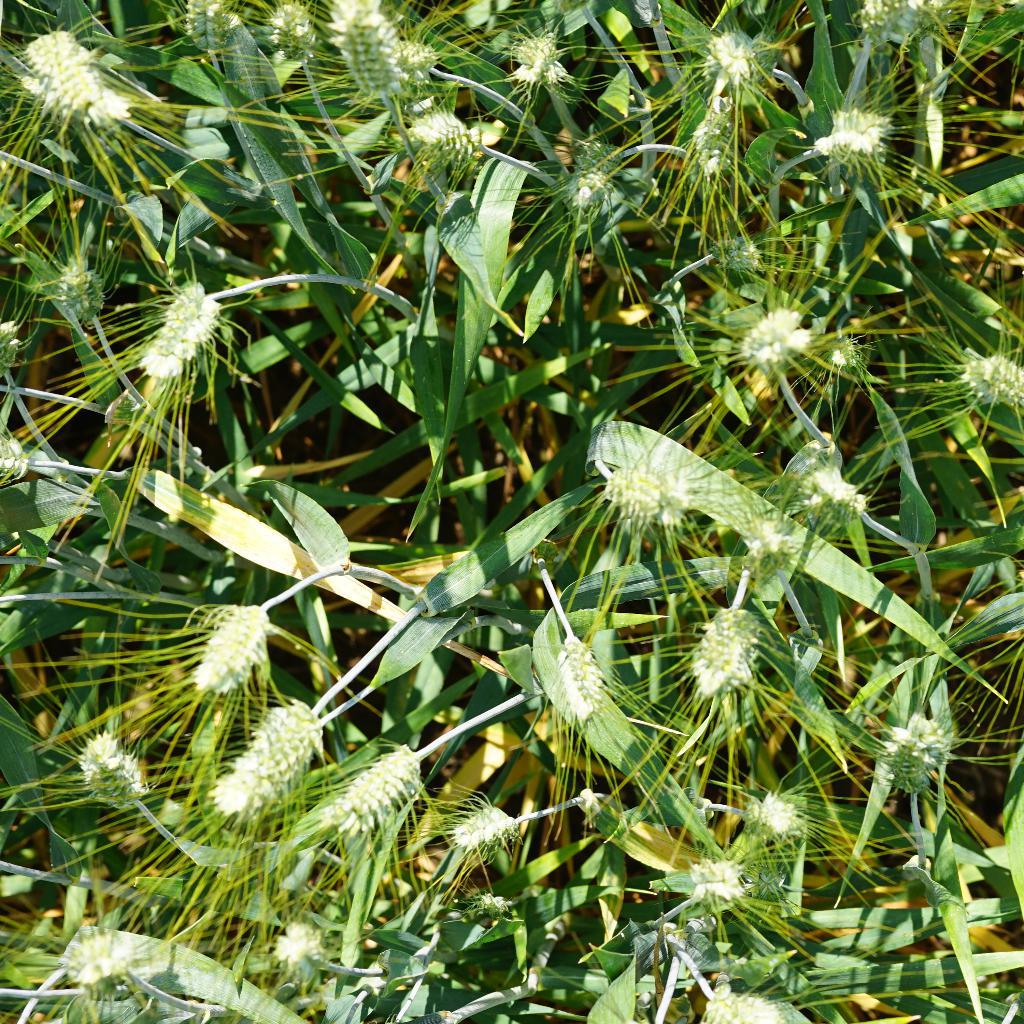0-0: (219, 665, 329, 826), (11, 27, 157, 138), (53, 718, 163, 830), (324, 732, 426, 847), (594, 436, 697, 534), (186, 590, 283, 691), (146, 271, 220, 392), (697, 591, 770, 712), (871, 699, 956, 798), (737, 776, 832, 863), (535, 610, 616, 709), (320, 0, 406, 89), (555, 124, 623, 231), (40, 250, 124, 336), (729, 503, 811, 585), (722, 303, 813, 374), (692, 843, 769, 925), (262, 914, 342, 991), (687, 980, 826, 1024), (937, 340, 1024, 410), (56, 920, 142, 987), (430, 793, 526, 852), (500, 22, 574, 98), (701, 12, 785, 77), (0, 435, 78, 503), (250, 0, 325, 68), (807, 108, 897, 163), (787, 462, 867, 523), (706, 224, 778, 291), (169, 0, 246, 62), (673, 93, 728, 172), (860, 0, 953, 46), (403, 108, 475, 161), (380, 34, 452, 86), (451, 877, 519, 923), (817, 324, 863, 384)
